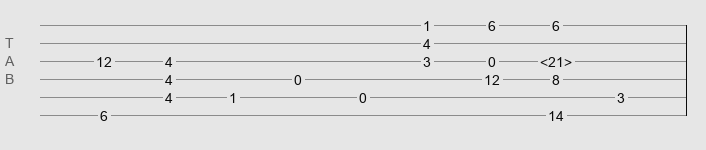0: (294, 72, 302, 82), (359, 90, 367, 100), (488, 54, 496, 64)
1: (229, 90, 237, 100), (423, 18, 431, 28)
12: (96, 54, 112, 64), (484, 72, 500, 82)
14: (548, 108, 564, 118)
3: (423, 54, 431, 64), (617, 90, 625, 100)
4: (165, 54, 173, 64), (165, 72, 173, 82), (165, 90, 173, 100), (423, 36, 431, 46)
6: (100, 108, 108, 118), (488, 18, 496, 28), (552, 18, 560, 28)
8: (552, 72, 560, 82)
harmonic: (540, 54, 572, 64)
